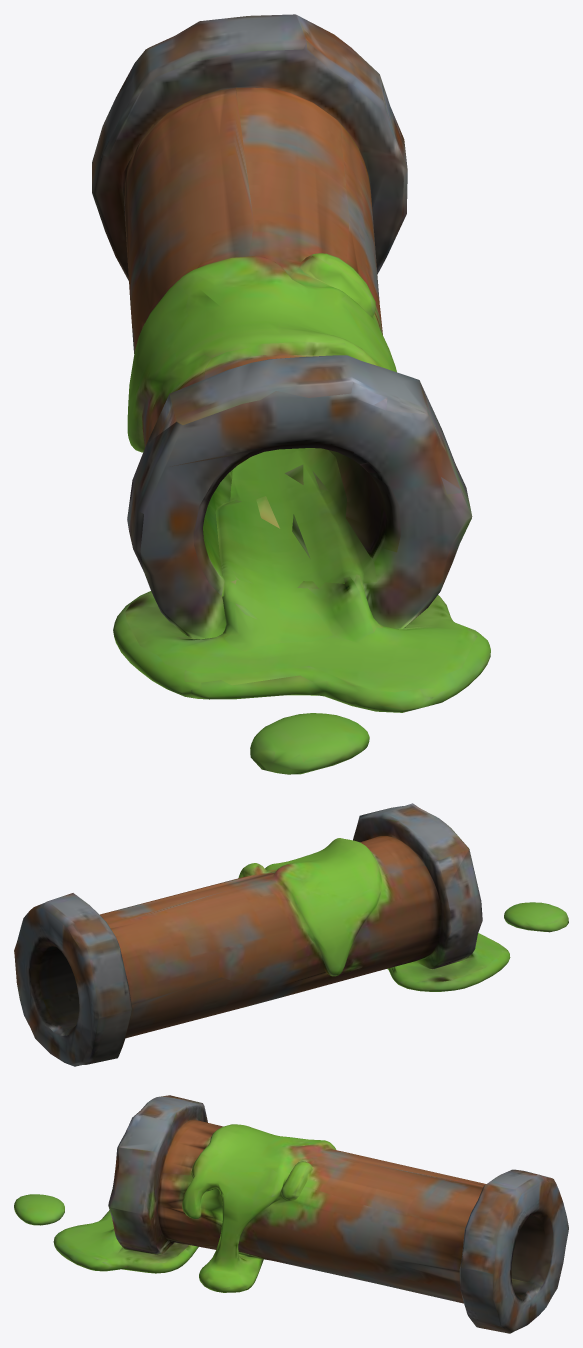
The model's file is cover_pipe.glb.
The picture shows the model from 3 angles, top to bottom: view 1: azimuth 30°, elevation 25°; view 2: azimuth 150°, elevation 25°; view 3: azimuth 270°, elevation 25°; orthographic projection. The views are drawn at different scales.
Visible parts, largest first — view 1: cover_2; view 2: cover_2; view 3: cover_2.
Boxes of the visible parts, bbox=[...] form: cover_2: bbox=[92, 14, 490, 774]; cover_2: bbox=[14, 803, 568, 1066]; cover_2: bbox=[14, 1095, 568, 1333].
Bounding box in the file's own units: 0.3601 × 0.1616 × 0.5734.
Materials: 1 (1 with a texture image).
